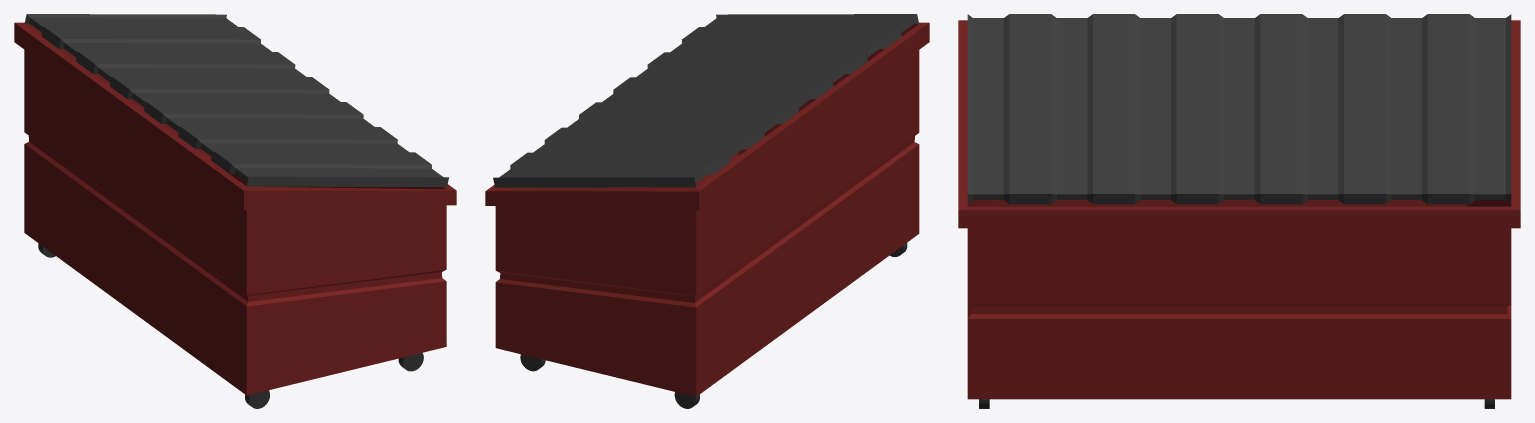
The model's file is Trash2.fbx.
3 renders of one model, left to right at view 1: azimuth 30°, elevation 25°; view 2: azimuth 150°, elevation 25°; view 3: azimuth 270°, elevation 25°, orthographic. The views are drawn at different scales.
Visible parts, largest first — view 1: Cube, Cube.001; view 2: Cube, Cube.001; view 3: Cube, Cube.001.
Part boxes in pixels (x1,y1,x2,y2): Cube: (14, 22, 456, 395); Cube.001: (24, 14, 448, 186); Cube: (485, 22, 929, 396); Cube.001: (493, 14, 918, 187); Cube: (958, 20, 1520, 399); Cube.001: (967, 14, 1511, 204).
Bounding box in the file's own units: 213 × 229 × 398.
